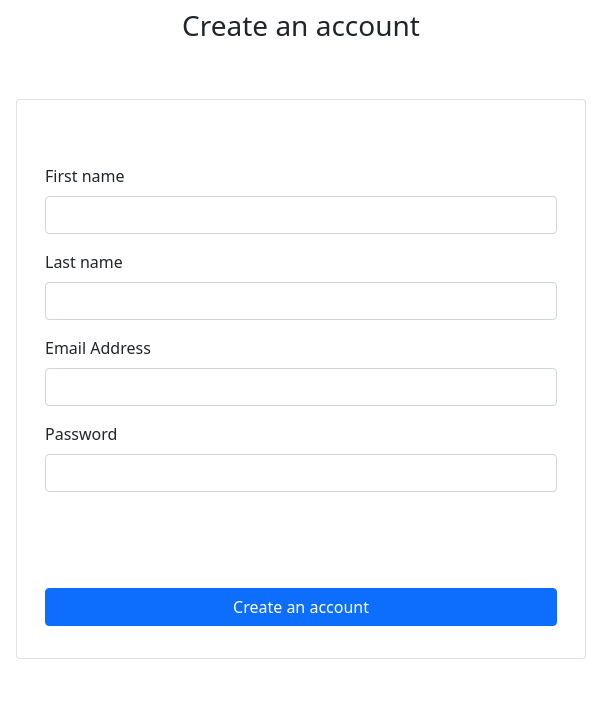
Test: RegistrationForm › should throw error if password is too short
Step 1. Type "test@test.com" into the field with test id "email" → {"x": 301, "y": 387}, box [45,368,557,406]
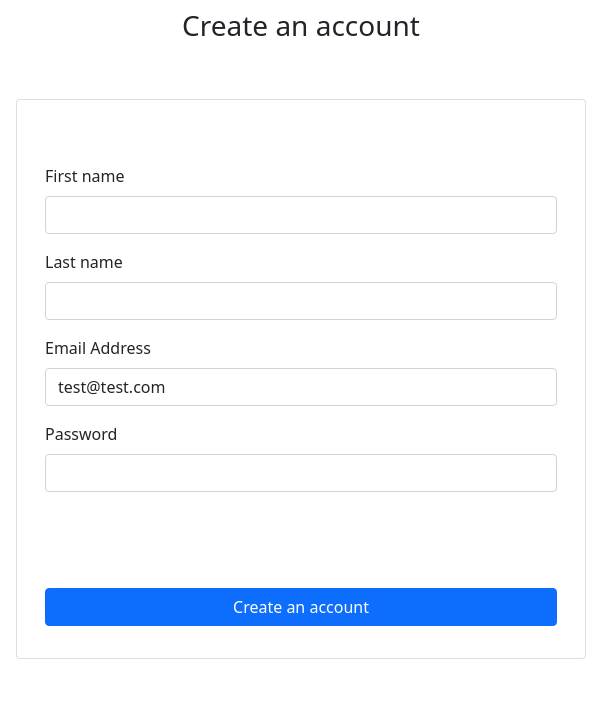
Step 2. Type "test" into the password field with test id "password" → {"x": 301, "y": 473}, box [45,454,557,492]
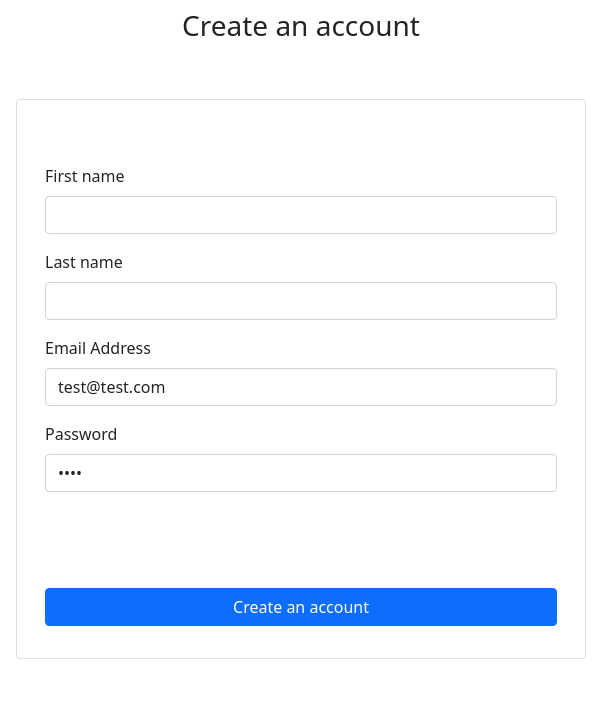
Step 3. Type "test" into the field with test id "fName" → {"x": 301, "y": 215}, box [45,196,557,234]
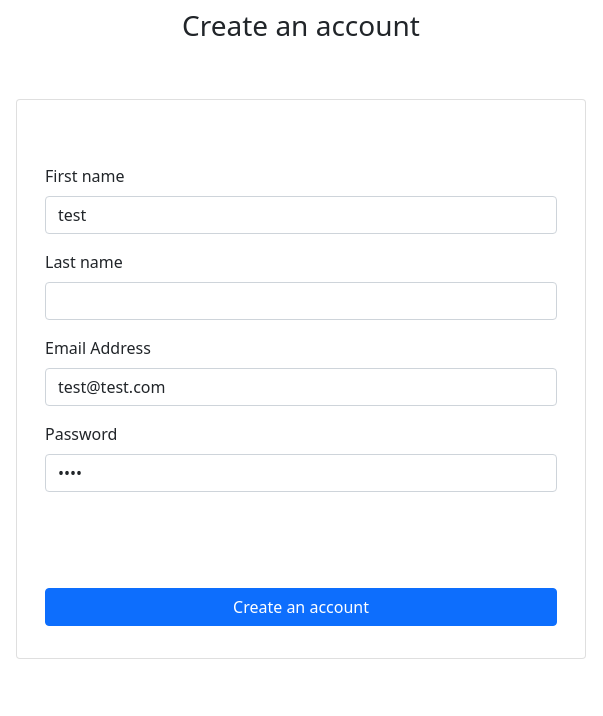
Step 4. Type "testLast" into the field with test id "lName" → {"x": 301, "y": 301}, box [45,282,557,320]
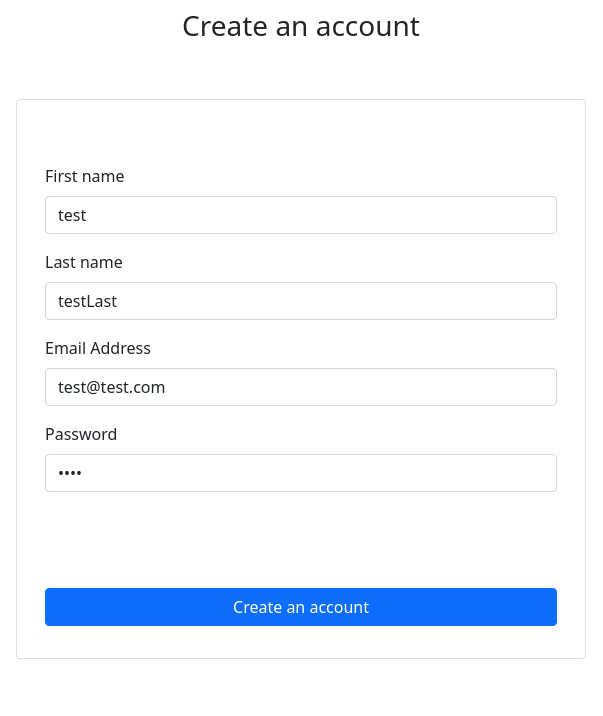
Step 5. Click the button with test id "button" → {"x": 301, "y": 607}, box [45,588,557,626]
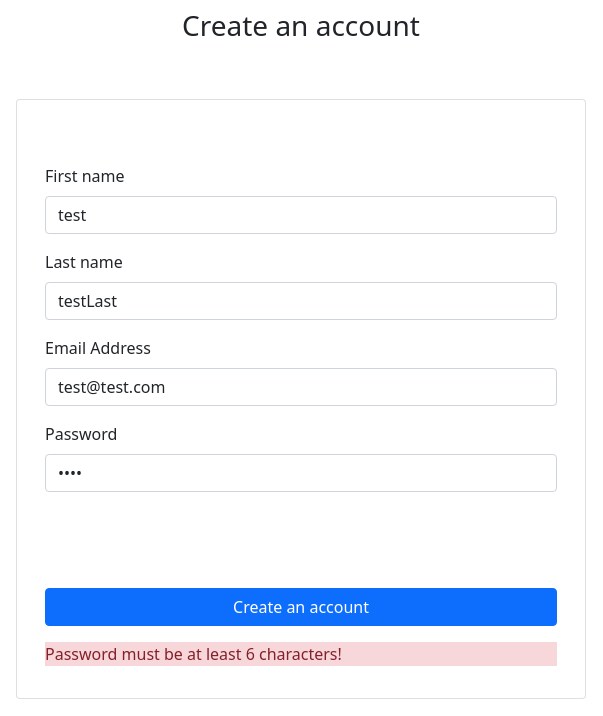
Expected: the text with test id "error" reads "Password must be at least 6 characters!", [45,643,342,665]
